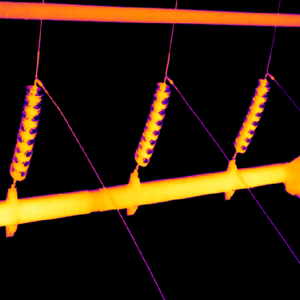insulator: (133, 80, 172, 166), (10, 82, 44, 180), (233, 75, 272, 153)
